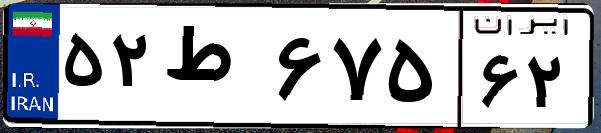2: (525, 38, 570, 115), (110, 28, 158, 98)
5: (385, 28, 445, 110), (57, 26, 110, 100)
6: (270, 28, 330, 110), (475, 38, 525, 113)
7: (330, 28, 385, 110)
ط: (158, 20, 270, 120)
